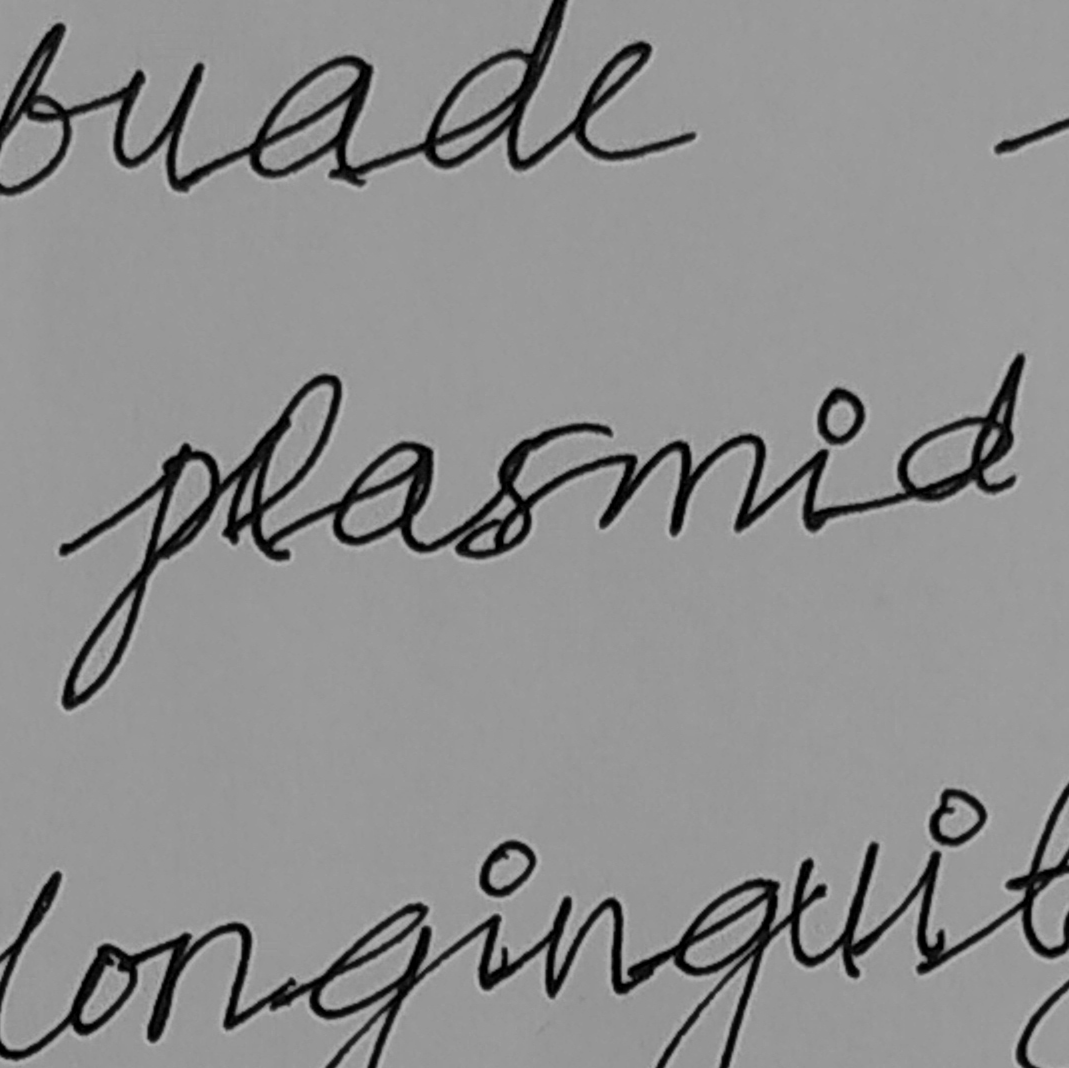a: (327, 438, 437, 558)
d: (893, 347, 1029, 506)
i: (797, 383, 868, 535)
l: (232, 366, 348, 567)
m: (595, 430, 769, 537)
p: (58, 440, 226, 713)
s: (449, 419, 617, 562)
